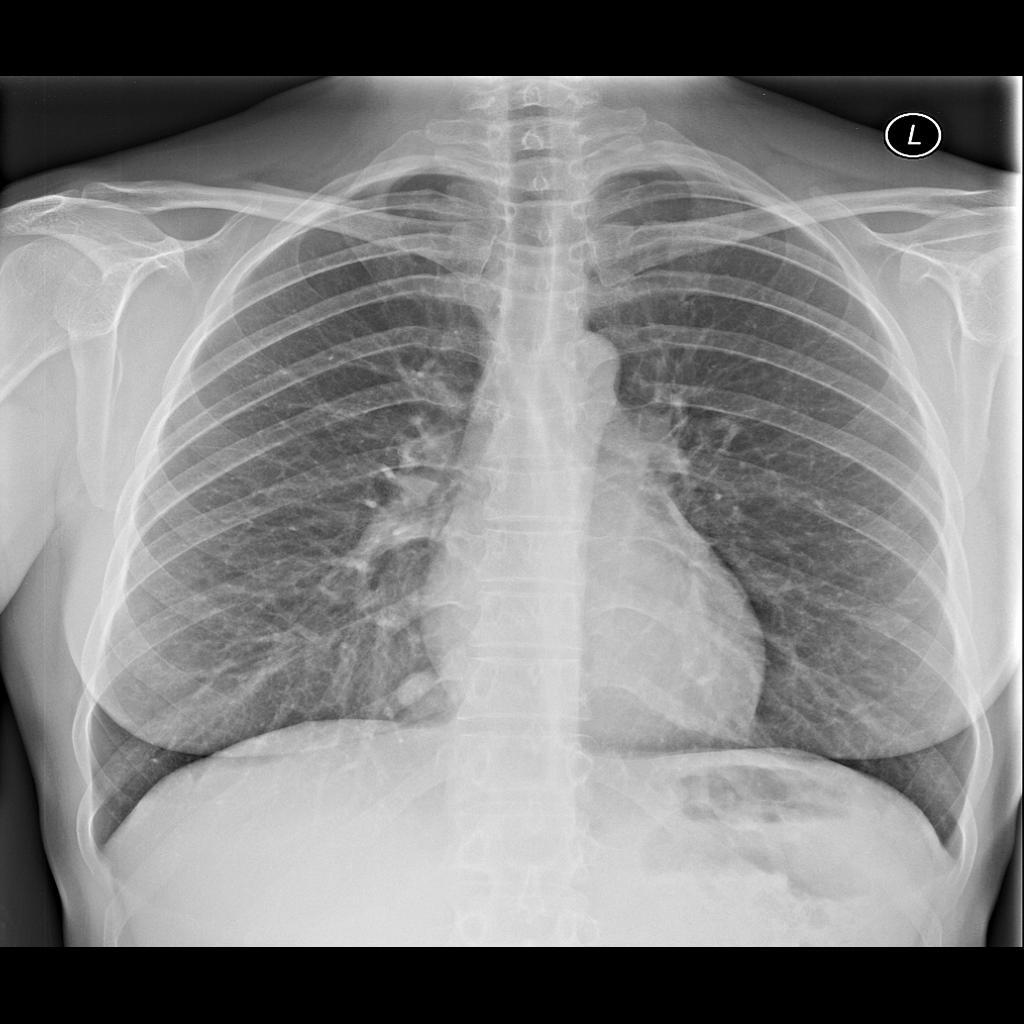Nodule: (391, 664, 454, 734)
